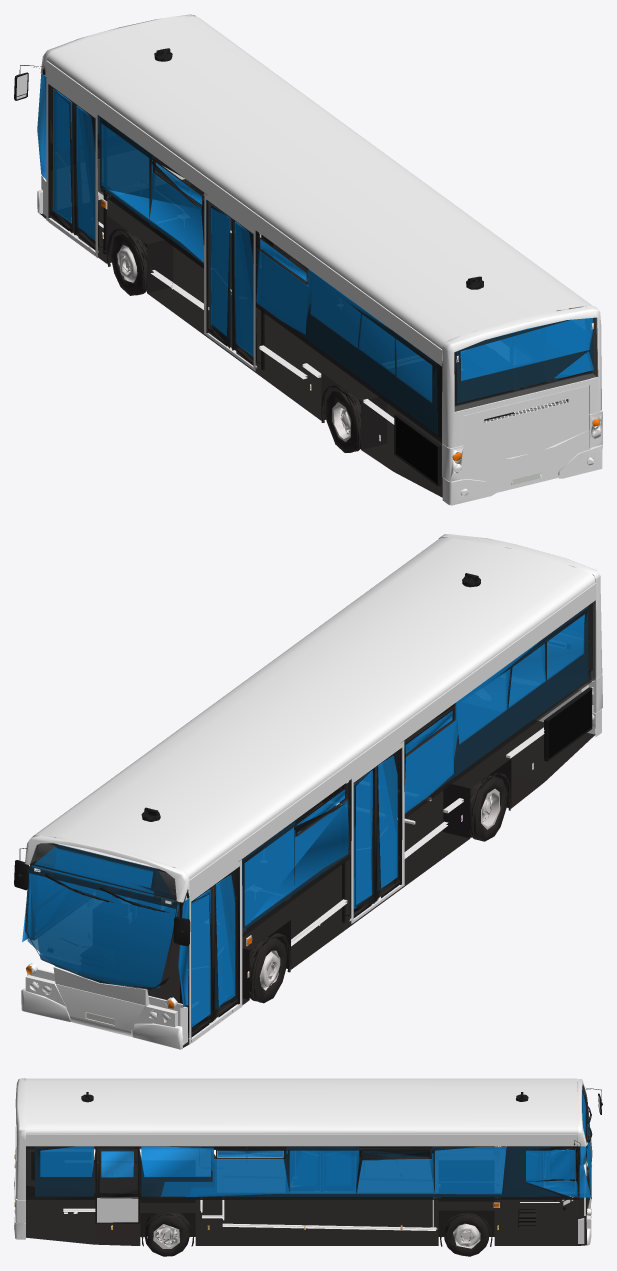
3 renders of one model, top to bottom at view 1: azimuth 30°, elevation 25°; view 2: azimuth 150°, elevation 25°; view 3: azimuth 270°, elevation 25°, orthographic. The views are drawn at different scales.
Visible parts, largest first — view 1: body, glass, wheel_RL, wheel_FL; view 2: body, glass, wheel_RL, wheel_FL; view 3: body, glass, wheel_FR, wheel_RR.
Boxes of the visible parts, <box> form: body: <box>14,14,602,505</box>; glass: <box>37,74,597,442</box>; wheel_RL: <box>107,229,146,295</box>; wheel_FL: <box>321,385,360,452</box>; body: <box>14,534,602,1049</box>; glass: <box>22,600,595,1032</box>; wheel_RL: <box>249,933,290,1003</box>; wheel_FL: <box>470,772,510,841</box>; body: <box>14,1078,602,1246</box>; glass: <box>16,1084,592,1223</box>; wheel_FR: <box>142,1213,192,1256</box>; wheel_RR: <box>441,1213,491,1256</box>.
Size of the model in its own units: 2.92 by 3.14 by 11.47.
